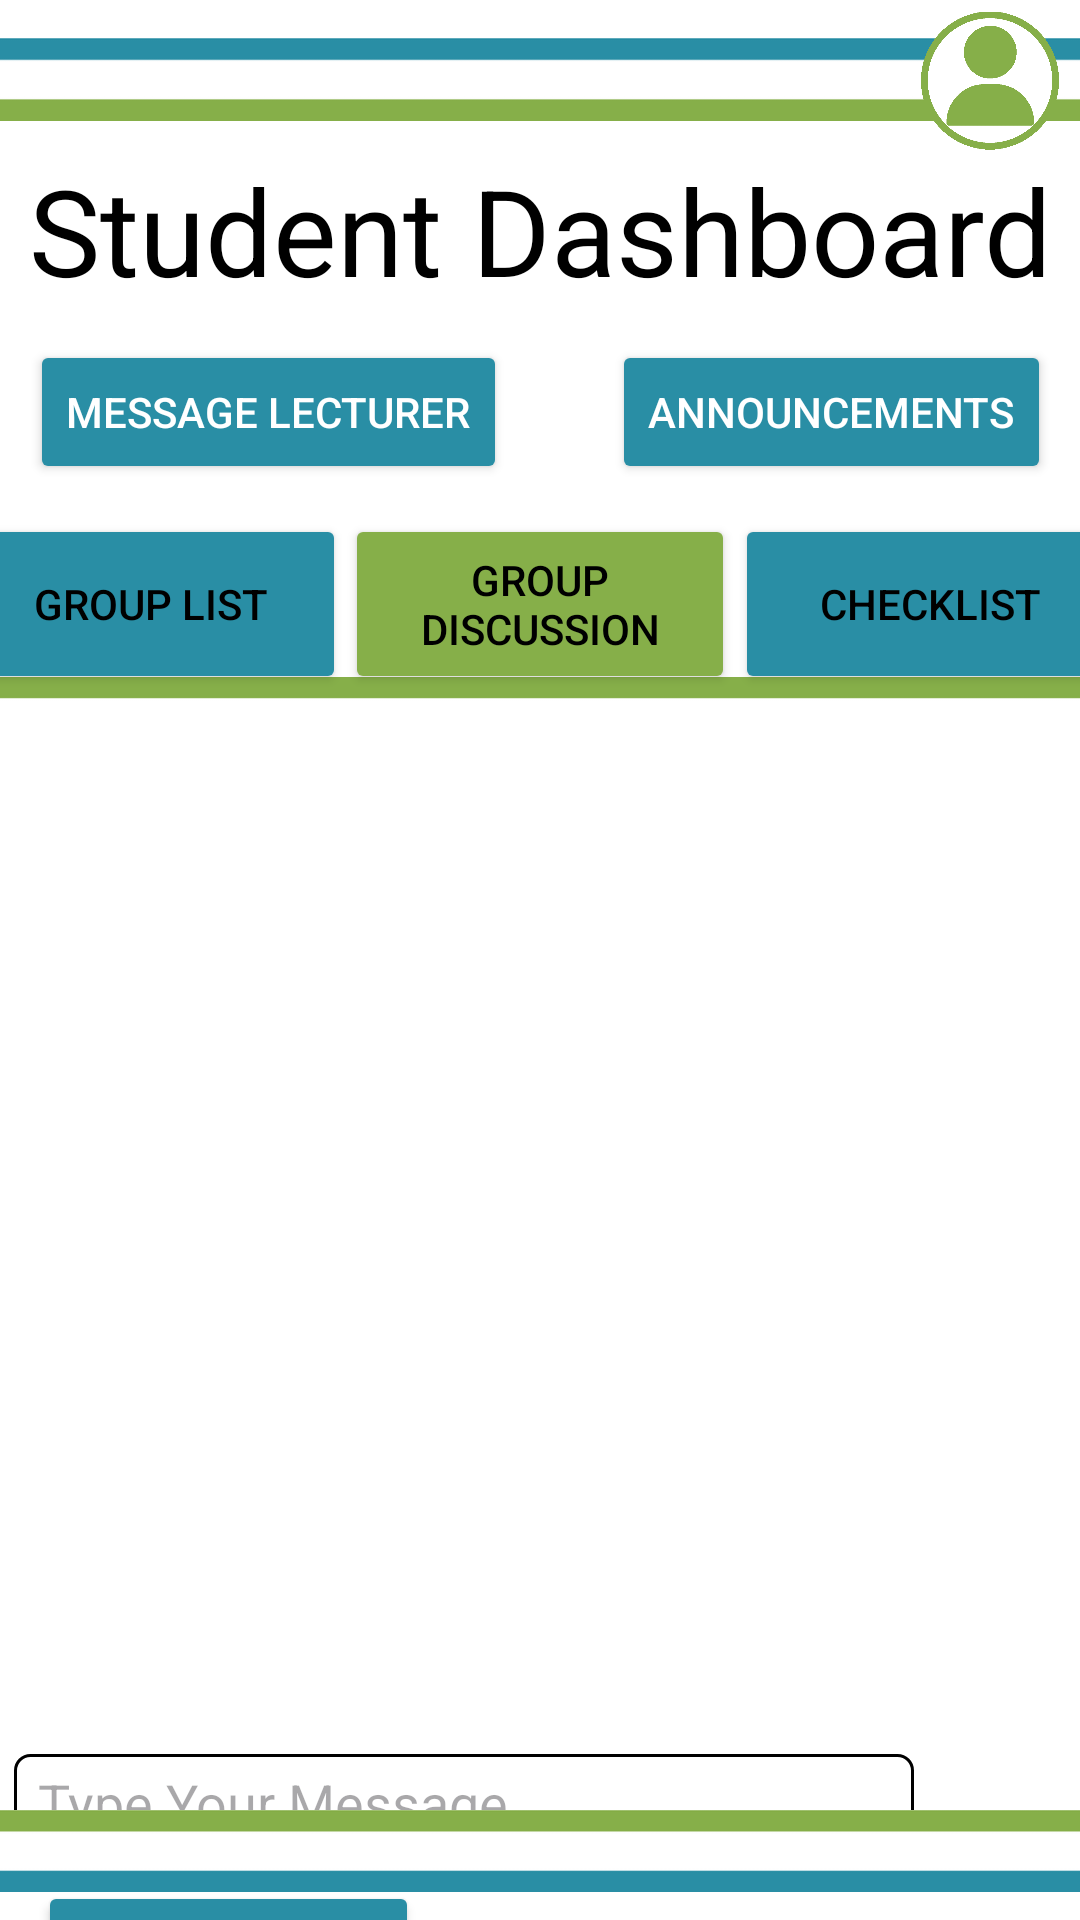

Icons on this 1080×1920 Android screen, each with its box as {"x1": x1, "y1": y1, "x2": x2, "y2": y2}:
user: {"x1": 921, "y1": 12, "x2": 1059, "y2": 150}
